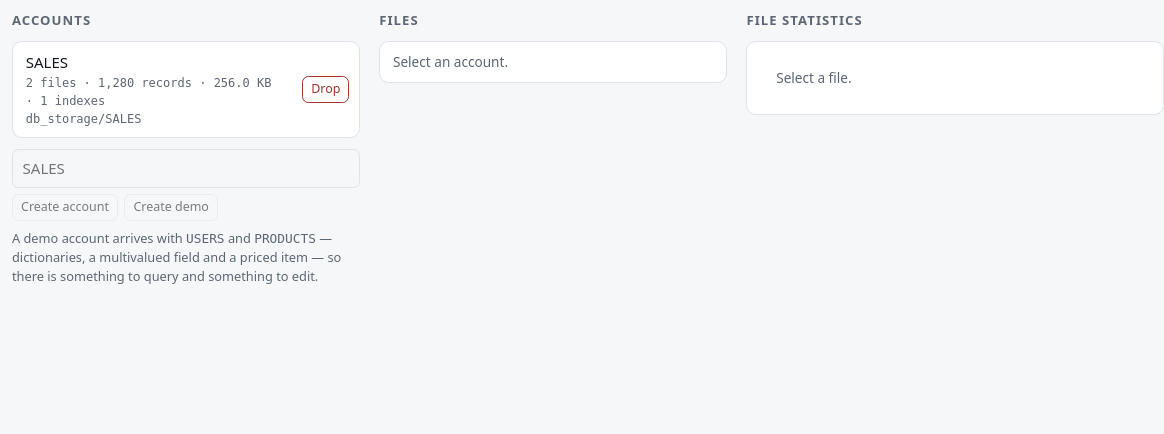
Test: the accounts view › marks the durable files in the listing
What coordinates should you click on to do the following:
click the button with class "select"
I would click on:
 (154, 90)
Its box is [13,42,296,137].
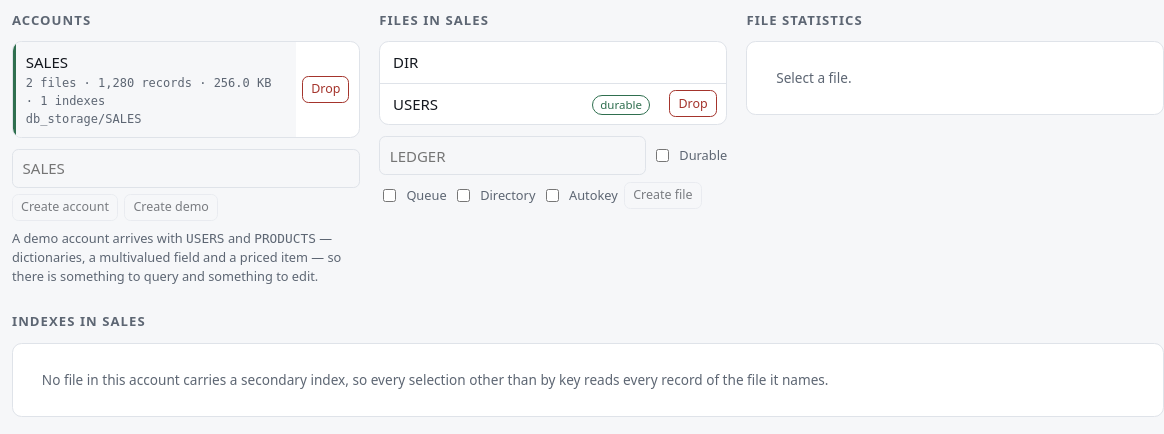
Check: the list item does not show "durable"
Check: the list item "USERS durable Drop" is shown, box [380,84,726,124]
